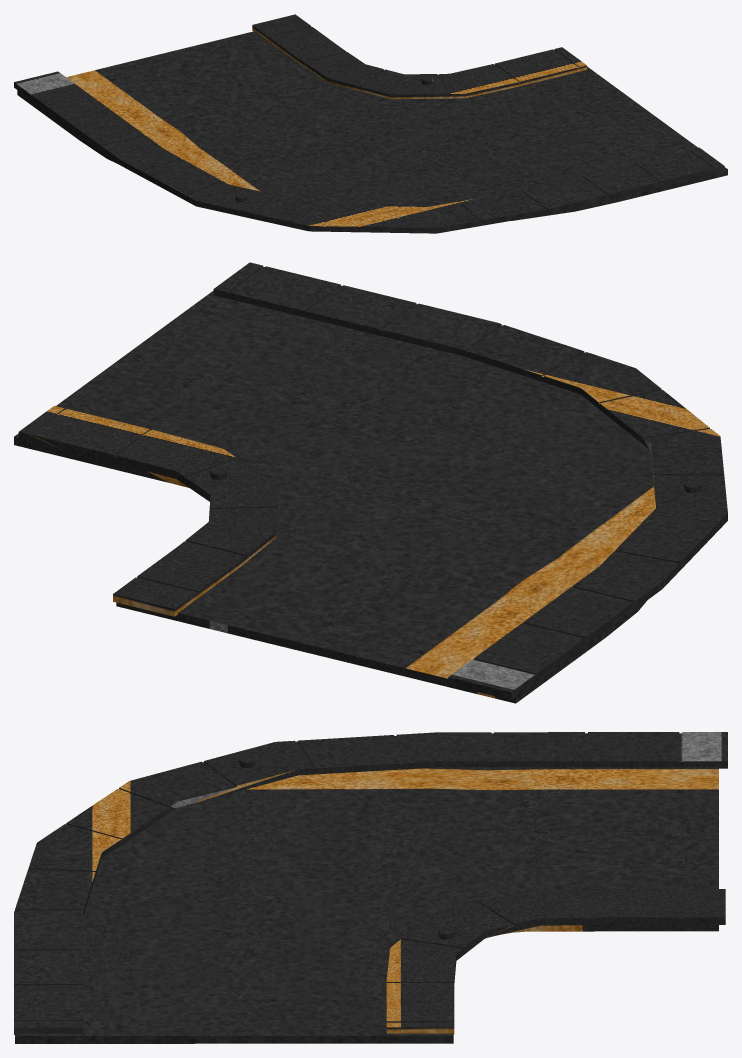
The model's file is roadWithUV.fbx.
3 renders of one model, top to bottom at view 1: azimuth 30°, elevation 25°; view 2: azimuth 150°, elevation 25°; view 3: azimuth 270°, elevation 25°, orthographic. The views are drawn at different scales.
Visible parts, largest first — view 1: uploads_files_2000762_6__1_; view 2: uploads_files_2000762_6__1_; view 3: uploads_files_2000762_6__1_.
Boxes of the visible parts, <box> form: uploads_files_2000762_6__1_: <box>14,14,727,233</box>; uploads_files_2000762_6__1_: <box>14,262,727,703</box>; uploads_files_2000762_6__1_: <box>14,732,727,1043</box>.
Bounding box in the file's own units: 887 × 27.12 × 899.
